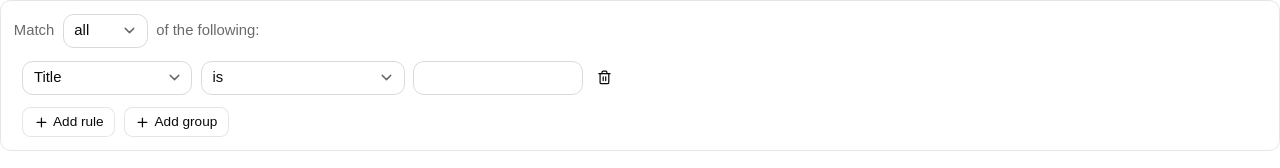
Test: SmartPlaylistRuleEditor › removes a rule
Click the button named "Remove rule" at (605, 78), box [592,65,617,90]
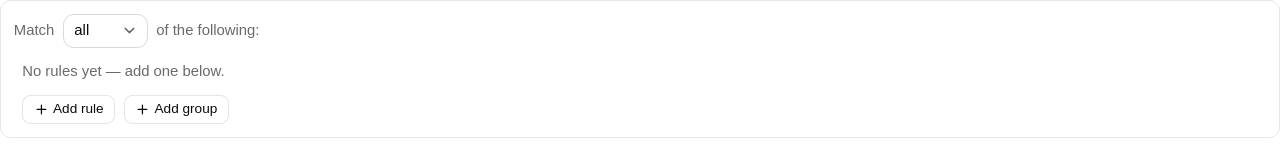
expect the text "No rules yet — add one below." is shown: met, box [22,62,225,78]
